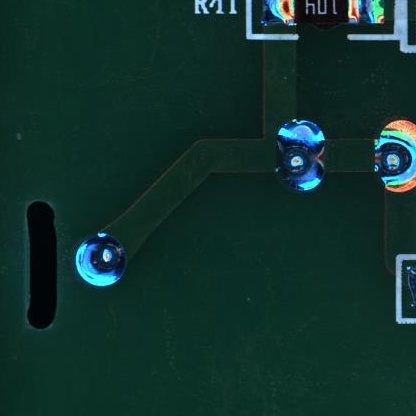spot: (273, 116, 327, 195), (373, 118, 416, 191), (74, 231, 127, 288)
